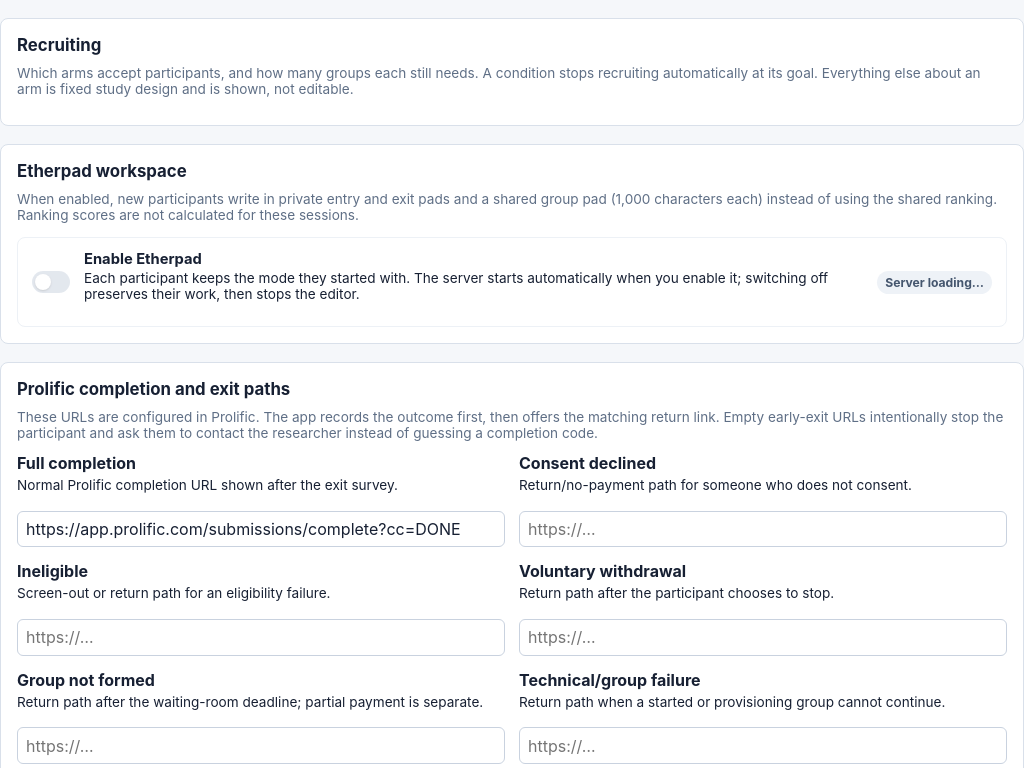
Test: CompensationCard › loads the Prolific paths, saves trimmed edits and reports failures
This screenshot has width=1024, height=768.
Expected: the 1st field is enabled, [17,511,505,547]
Expected: the 1st field holds "https://app.prolific.com/submissions/complete?cc=DONE", [17,511,505,547]
Type "  https://app.prolific.com/submissions/complete?cc=NOCONSENT " into the 2nd field at (763,529), box [519,511,1007,547]
(page scrolled)
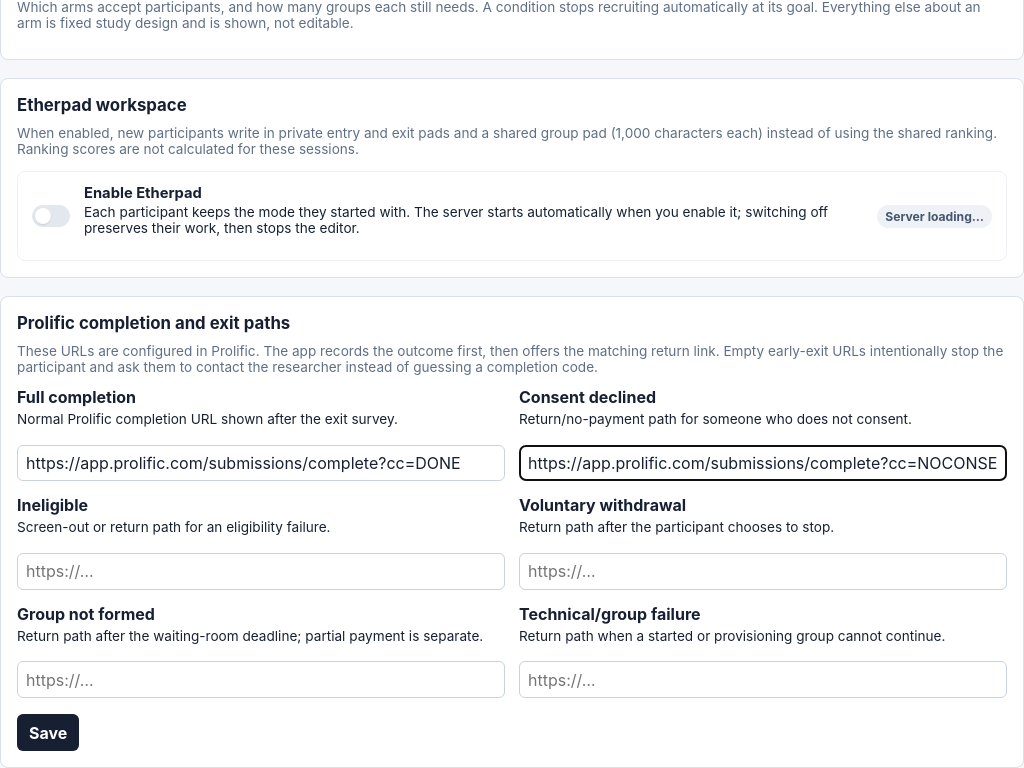
Now the button "Save" is enabled
Click the button "Save" at (48,733), box [17,714,79,751]
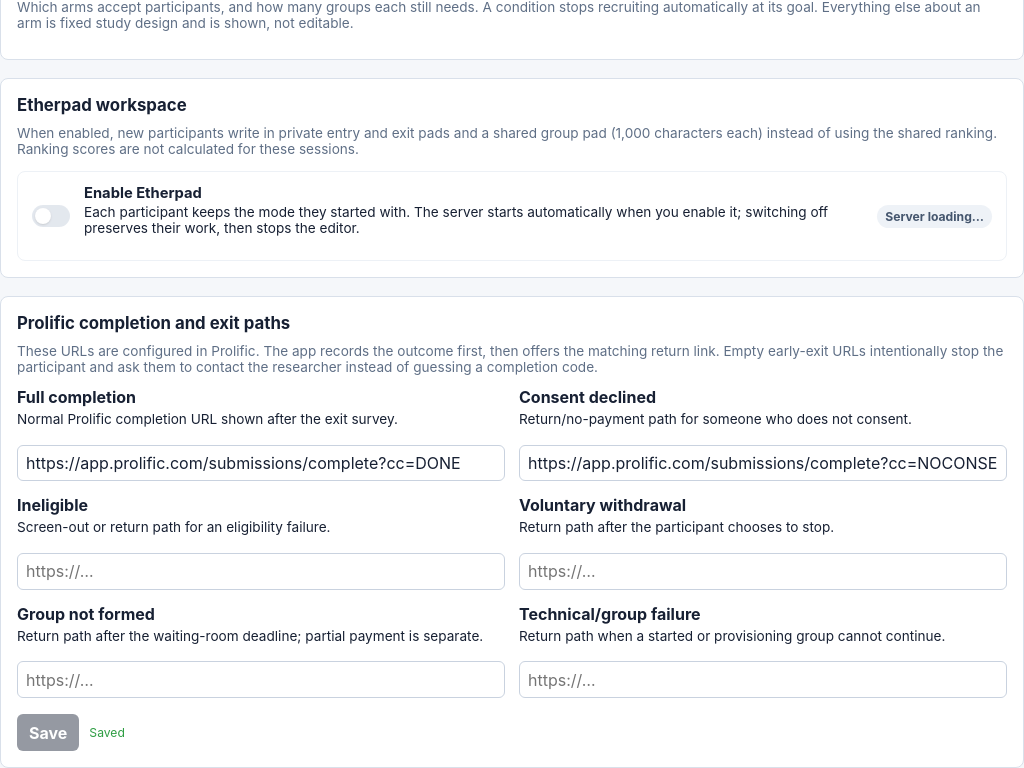
Now the text "Saved" is shown, box [89,725,125,740]
Now the button "Save" is disabled, box [17,714,79,751]
Type "https://example.org/x" into the 3rd field at (261,571), box [17,553,505,590]
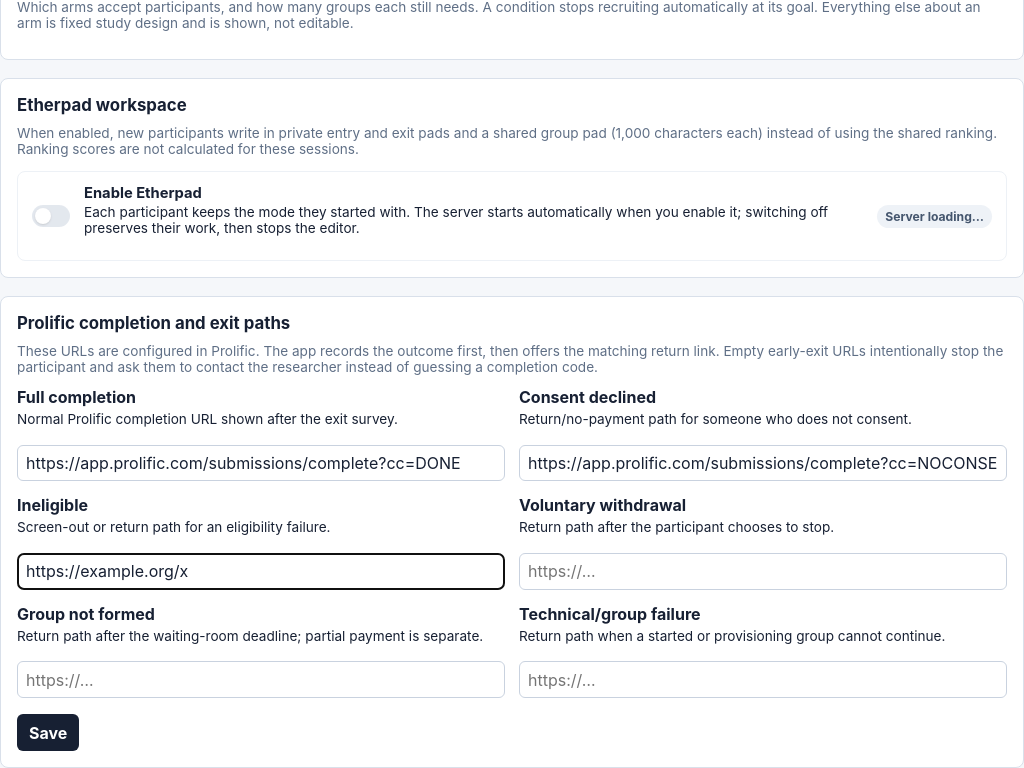
Click the button "Save" at (48,733), box [17,714,79,751]
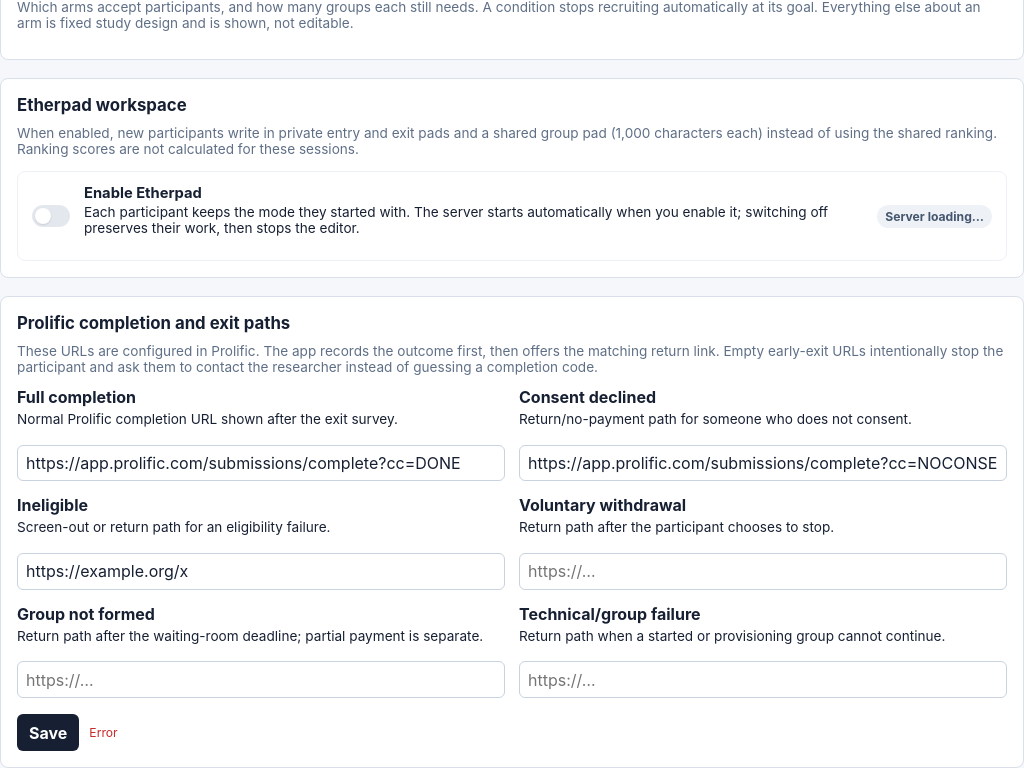
Now the text "Error" is shown, box [89,725,118,740]
